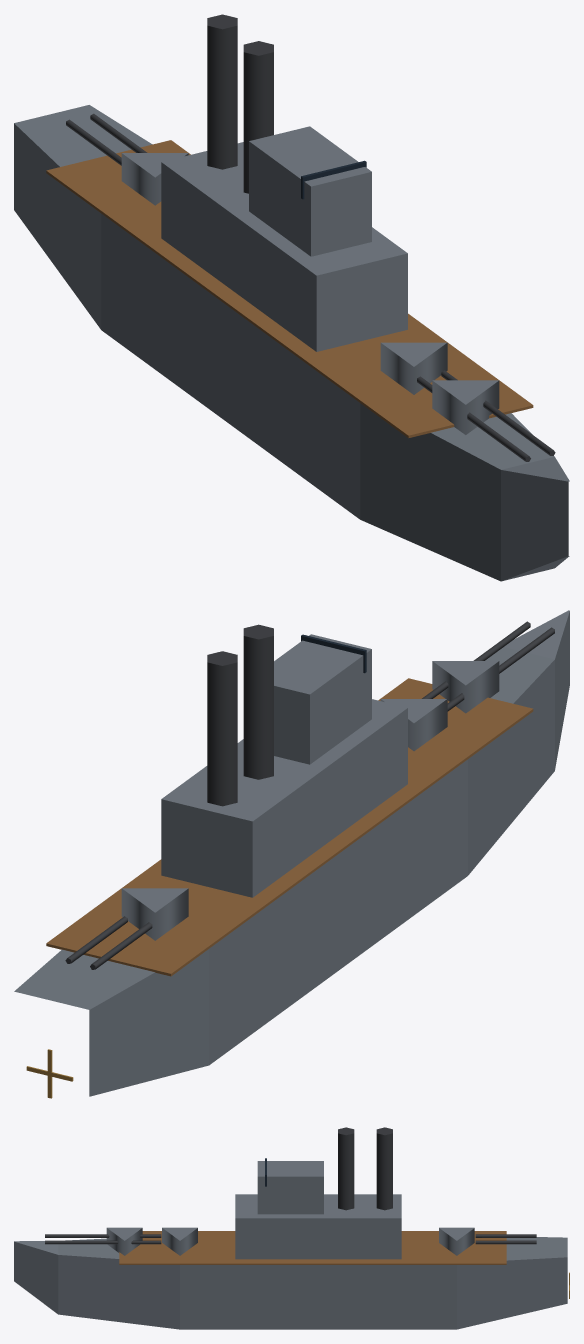
The model's file is veh_naval_warship_a06_lod2.glb.
3 views of the same model, one above another, from view 1: azimuth 30°, elevation 25°; view 2: azimuth 150°, elevation 25°; view 3: azimuth 270°, elevation 25° (orthographic). The views are drawn at different scales.
Visible parts, largest first — view 1: body, turret_0, turret_1, turret_2; view 2: body, turret_2, turret_0, turret_1; view 3: body, turret_2, turret_0, turret_1.
Part boxes in pixels (left/top/right/bottom): body: left=14, top=14, right=569, bottom=581; turret_0: left=432, top=380, right=555, bottom=461; turret_1: left=380, top=342, right=501, bottom=423; turret_2: left=66, top=113, right=188, bottom=205; body: left=14, top=610, right=569, bottom=1096; turret_2: left=65, top=888, right=188, bottom=969; turret_0: left=432, top=621, right=554, bottom=713; turret_1: left=380, top=667, right=502, bottom=751; body: left=14, top=1127, right=567, bottom=1329; turret_2: left=439, top=1227, right=536, bottom=1255; turret_0: left=45, top=1227, right=142, bottom=1255; turret_1: left=100, top=1227, right=197, bottom=1255.
Bounding box in the file's own units: 4.04 × 10.64 × 29.1.
